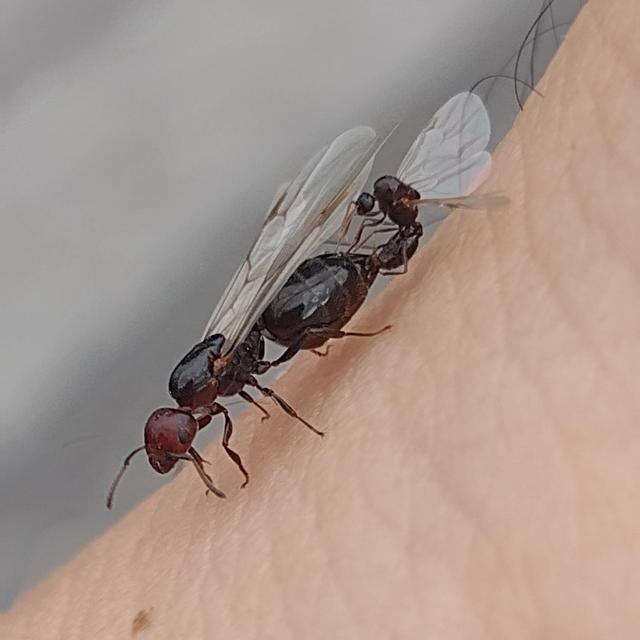Crematogaster: (88, 238, 390, 502), (336, 110, 504, 276)
